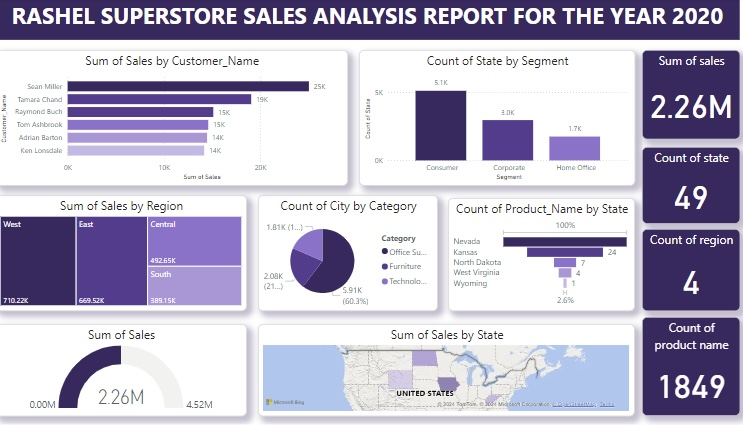

The page's visual inventory and layout, read from the dashboard file:
{"tool":"powerbi","page":{"name":"Page 1","canvas":[1280,720],"ordinal":0},"visuals":[{"type":"textbox","box":[10.1,0,1251.4,72.2],"z":0},{"type":"barChart","fields":{"Category":["superstore_final_dataset (1).Customer_Name"],"Y":["superstore_final_dataset (1).Sales"]},"box":[10.1,89,593,228.5],"z":1000},{"type":"columnChart","fields":{"Category":["superstore_final_dataset (1).Segment"],"Y":["superstore_final_dataset (1).State"]},"box":[621.5,89,463.6,228.5],"z":2000},{"type":"treemap","fields":{"Group":["superstore_final_dataset (1).Region"],"Values":["superstore_final_dataset (1).Sales"]},"box":[10.1,332.6,423.3,194.9],"z":3000},{"type":"pieChart","fields":{"Category":["superstore_final_dataset (1).Category"],"Y":["superstore_final_dataset (1).City"]},"box":[451.9,332.6,302.4,194.9],"z":4000},{"type":"funnel","fields":{"Category":["superstore_final_dataset (1).State"],"Y":["superstore_final_dataset (1).Product_Name"]},"box":[771,337.6,314.1,189.8],"z":5000},{"type":"gauge","fields":{"Y":["superstore_final_dataset (1).Sales"]},"box":[10,549,423,155],"z":6000},{"type":"filledMap","fields":{"Category":["superstore_final_dataset (1).State"]},"box":[451.9,549.3,633.3,154.5],"z":7000},{"type":"card","title":"Sum of sales","fields":{"Values":["superstore_final_dataset (1).Sales"]},"box":[1096.9,89,164.6,149.5],"z":8000},{"type":"card","title":"Count of state","fields":{"Values":["superstore_final_dataset (1).State"]},"box":[1096.9,252,164.6,129.3],"z":9000},{"type":"card","title":"Count of region","fields":{"Values":["superstore_final_dataset (1).Region"]},"box":[1096.9,389.7,164.6,137.7],"z":9001},{"type":"card","title":"Count of product name","fields":{"Values":["superstore_final_dataset (1).Product_Name"]},"box":[1096.9,537.5,164.6,166.3],"z":9002}]}

Visuals, with their boxes in screenshot pixels (x1, y1, x2, y2), scaled from the page's 1280x720 canvas onto the 743x425 screenshot:
textbox: [6, 0, 732, 43]
barChart - superstore_final_dataset (1).Customer_Name x superstore_final_dataset (1).Sales: [6, 53, 350, 187]
columnChart - superstore_final_dataset (1).Segment x superstore_final_dataset (1).State: [361, 53, 630, 187]
treemap - superstore_final_dataset (1).Region x superstore_final_dataset (1).Sales: [6, 196, 252, 311]
pieChart - superstore_final_dataset (1).Category x superstore_final_dataset (1).City: [262, 196, 438, 311]
funnel - superstore_final_dataset (1).State x superstore_final_dataset (1).Product_Name: [448, 199, 630, 311]
gauge - superstore_final_dataset (1).Sales: [6, 324, 251, 416]
filledMap - superstore_final_dataset (1).State: [262, 324, 630, 415]
"Sum of sales" card: [637, 53, 732, 141]
"Count of state" card: [637, 149, 732, 225]
"Count of region" card: [637, 230, 732, 311]
"Count of product name" card: [637, 317, 732, 415]
